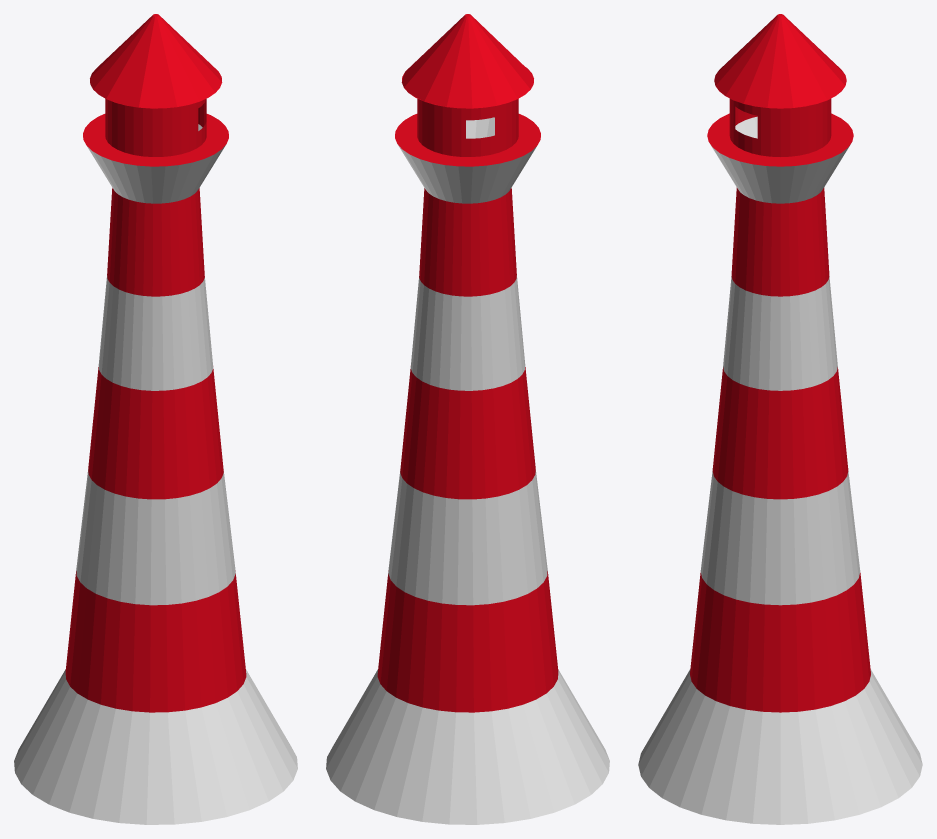
File: LightHouse.fbx
The picture shows the model from 3 angles, left to right: view 1: azimuth 30°, elevation 25°; view 2: azimuth 150°, elevation 25°; view 3: azimuth 270°, elevation 25°; orthographic projection.
Visible parts, largest first — view 1: Cylinder; view 2: Cylinder; view 3: Cylinder.
Boxes of the visible parts, x1,y1,x2,y2 form: Cylinder: (14,14,297,824); Cylinder: (326,14,609,824); Cylinder: (638,14,922,824).
Bounding box in the file's own units: 1264 × 3673 × 1264.
